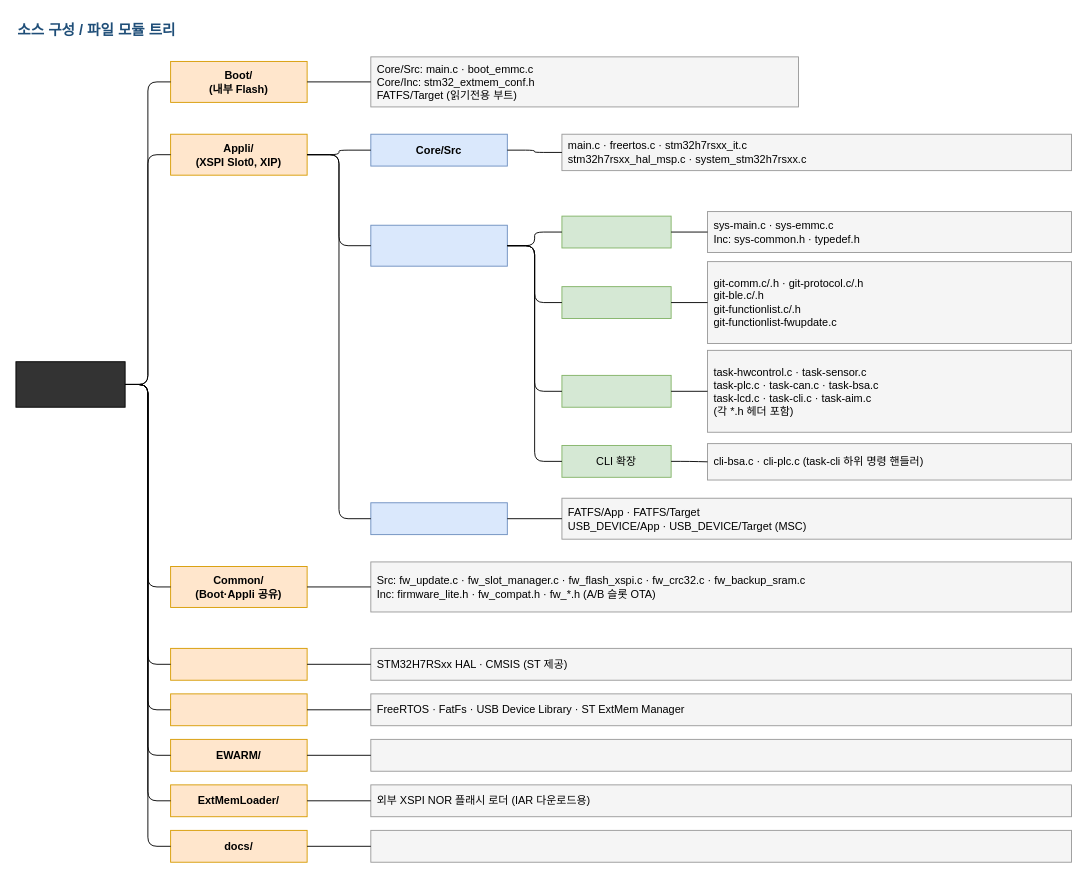
Some shapes in this 1087 by 878 pixel diagram are drawn without their labels. The centre of each missing label's shape, as x and y in pixels:
Drivers/: the point at 238,663
evcd_test/ (bdc_rev1): the point at 70,384
EVCD_Test_FW_Design.xlsx · EVCD_Test_FW_Diagrams.drawio (본 문서): the point at 721,845
FATFS · USB_DEVICE: the point at 438,518
Function/Src (핵심 로직): the point at 438,245
IAR 프로젝트(.eww/.ewp) · 링커 ICF(slot0) · Boot/Appli/ExtMemLoader 빌드: the point at 721,754
Middlewares/: the point at 238,709
시스템: the point at 616,231
태스크: the point at 616,390
통신 / 프로토콜: the point at 616,302
